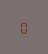zero: (19, 19, 26, 34)
